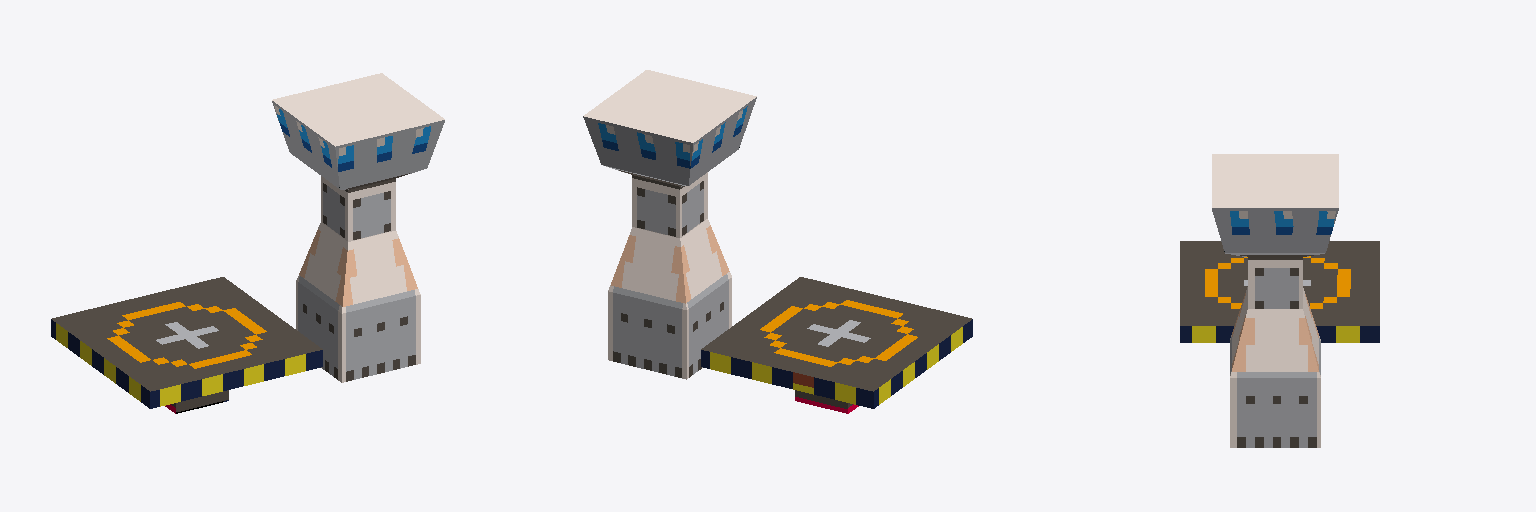
3 views of the same model, side by side, from view 1: azimuth 30°, elevation 25°; view 2: azimuth 150°, elevation 25°; view 3: azimuth 270°, elevation 25° (orthographic).
Parts seen in each view (by area): view 1: landing_pad; view 2: landing_pad; view 3: landing_pad.
Part boxes in pixels (bbox=[...]): landing_pad: bbox=[51, 73, 444, 413]; landing_pad: bbox=[583, 70, 972, 413]; landing_pad: bbox=[1180, 154, 1379, 447].
Bounding box in the file's own units: 11.69 × 8.87 × 6.5.
Materials: 1 (1 with a texture image).